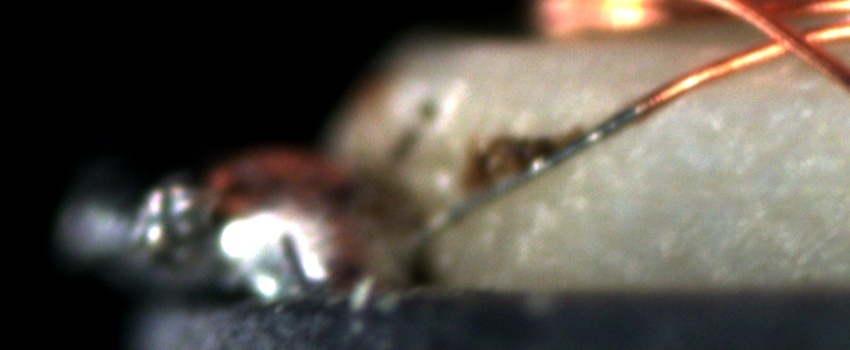CL: (744, 14, 837, 71)
DL: (635, 162, 850, 226)
TS: (397, 101, 640, 256)
TTCW: (398, 64, 698, 251)
